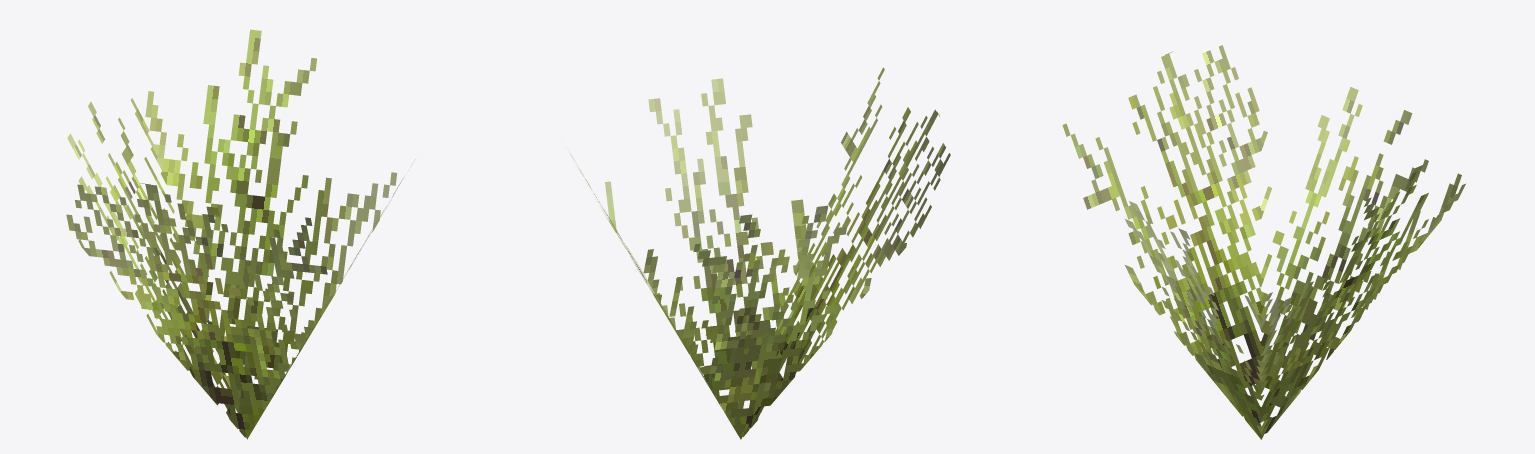
File: wrld_plant_bush_dry3.glb
3 renders of one model, left to right at view 1: azimuth 30°, elevation 25°; view 2: azimuth 150°, elevation 25°; view 3: azimuth 270°, elevation 25°, orthographic. The views are drawn at different scales.
Visible parts, largest first — view 1: wrld_plant_bush_dry3; view 2: wrld_plant_bush_dry3; view 3: wrld_plant_bush_dry3.
Boxes of the visible parts, x1,y1,x2,y2 form: wrld_plant_bush_dry3: [66, 29, 415, 439]; wrld_plant_bush_dry3: [569, 67, 950, 439]; wrld_plant_bush_dry3: [1062, 45, 1465, 439].
Size of the model in its own units: 3.65 by 2.46 by 3.65.
1 material, 1 textured.
